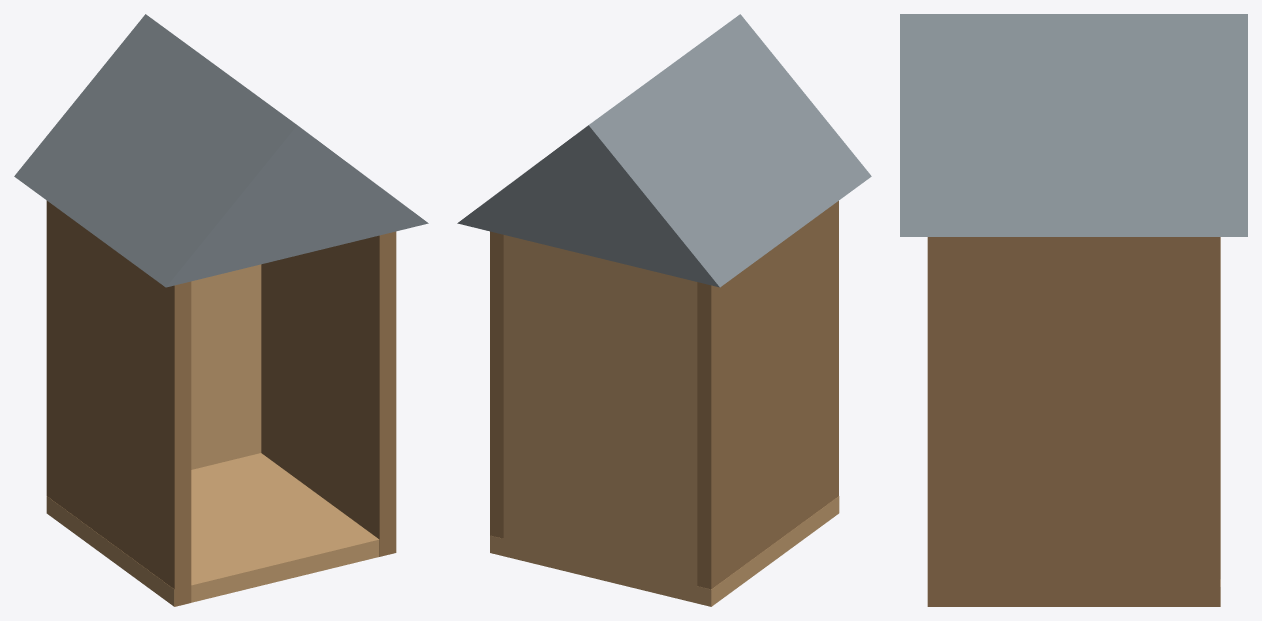
Rendered from sentry-shelter.glb.
The picture shows the model from 3 angles, left to right: view 1: azimuth 30°, elevation 25°; view 2: azimuth 150°, elevation 25°; view 3: azimuth 270°, elevation 25°; orthographic projection. The views are drawn at different scales.
Visible parts, largest first — view 1: sentry-shelter; view 2: sentry-shelter; view 3: sentry-shelter.
Part boxes in pixels (x1,y1,x2,y2): sentry-shelter: (14,14,428,606); sentry-shelter: (457,14,871,606); sentry-shelter: (900,14,1247,606).
Size of the model in its own units: 1.9 by 3.2 by 1.9.
